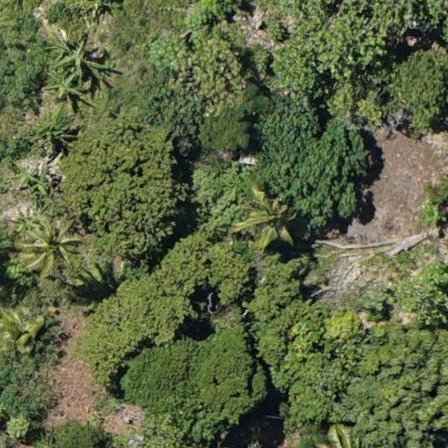palm_tree: (18, 213, 85, 285), (244, 190, 305, 254)
